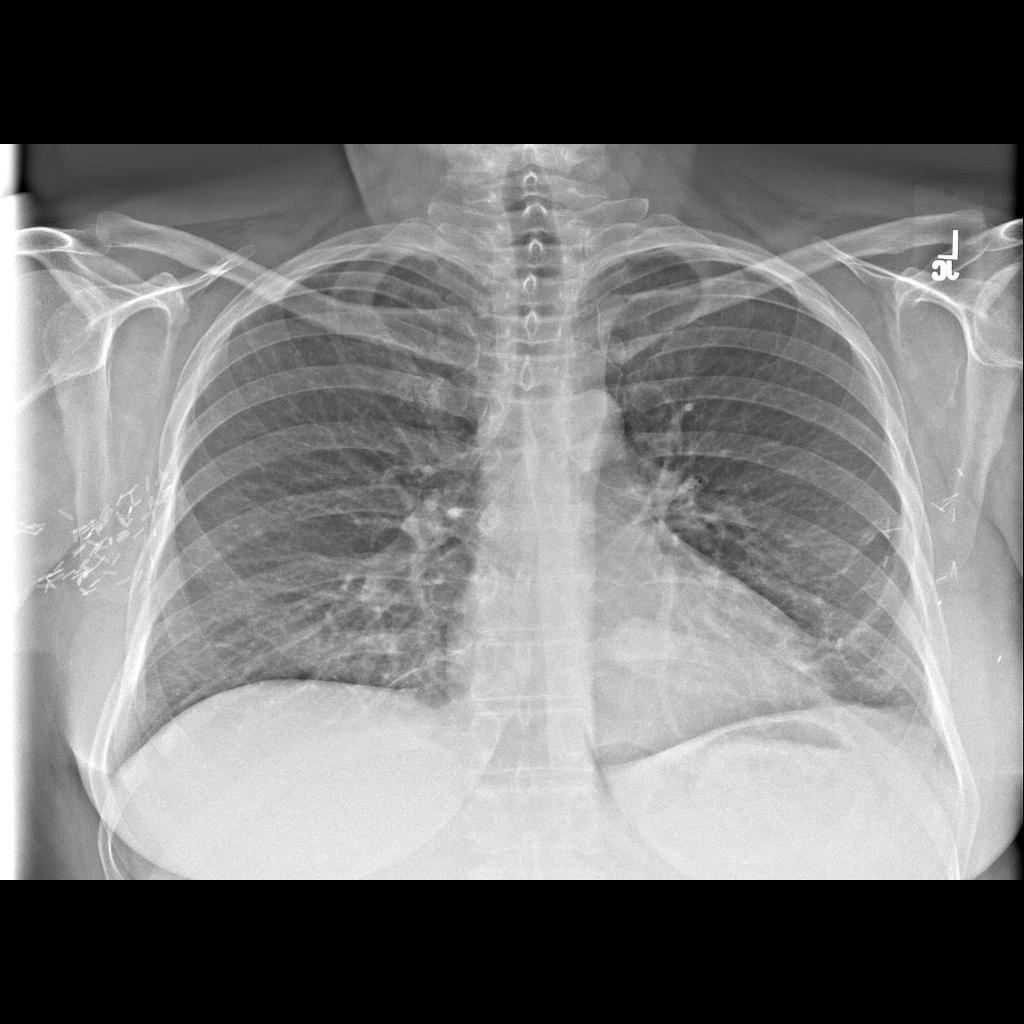Nodule: (603, 610, 680, 685)
